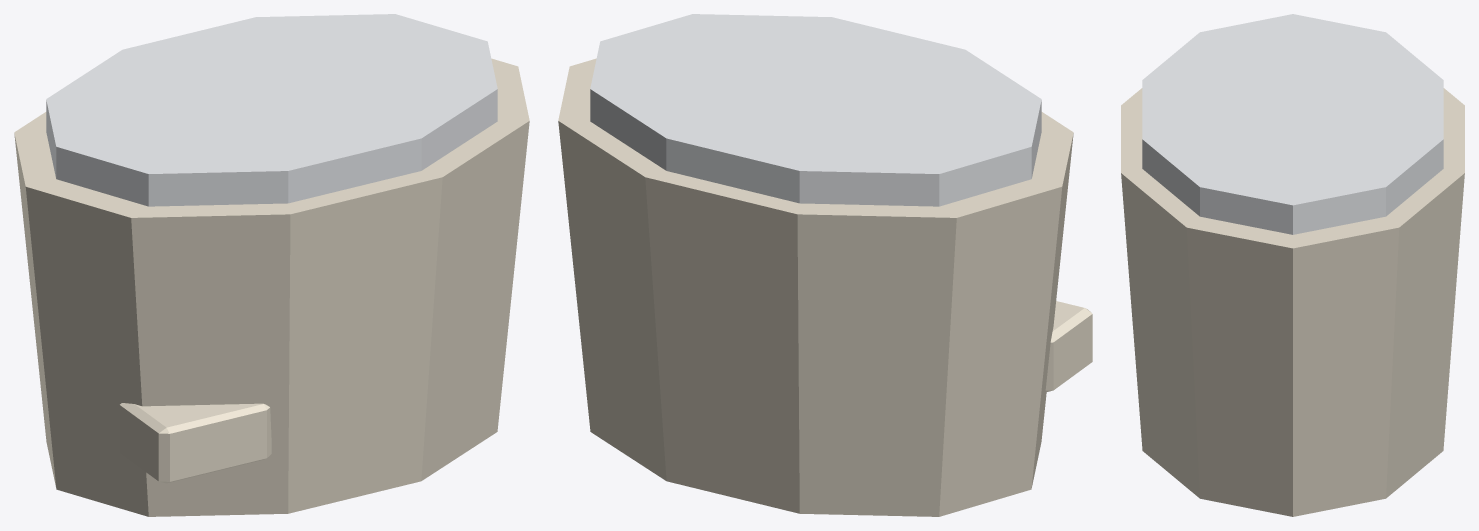
The model's file is b17_strapped_sleeping_bag_roll.glb.
3 views of the same model, side by side, from view 1: azimuth 30°, elevation 25°; view 2: azimuth 150°, elevation 25°; view 3: azimuth 270°, elevation 25° (orthographic). The views are drawn at different scales.
Visible parts, largest first — view 1: b17_strapped_sleeping_bag_roll; view 2: b17_strapped_sleeping_bag_roll; view 3: b17_strapped_sleeping_bag_roll.
Boxes of the visible parts, x1,y1,x2,y2 form: b17_strapped_sleeping_bag_roll: [14, 14, 529, 516]; b17_strapped_sleeping_bag_roll: [558, 14, 1092, 516]; b17_strapped_sleeping_bag_roll: [1121, 14, 1464, 516].
Size of the model in its own units: 0.448 by 0.298 by 0.298.
